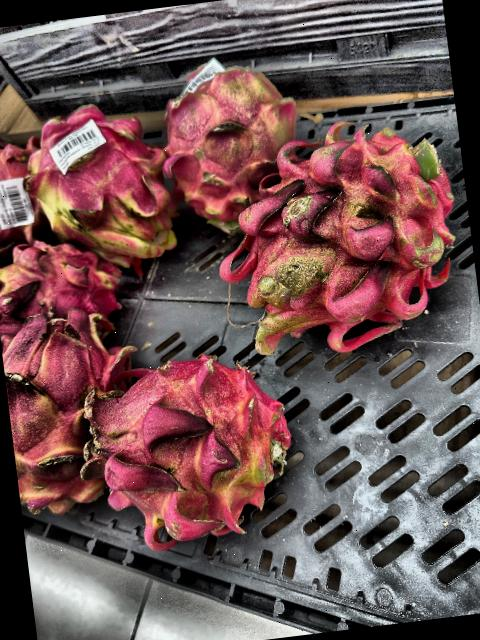buah-naga-belum-matang: (220, 122, 457, 350), (58, 349, 297, 540), (144, 46, 308, 228), (13, 102, 188, 270), (0, 314, 124, 514), (0, 232, 117, 337)
buah-naga-matang: (0, 135, 40, 244)
